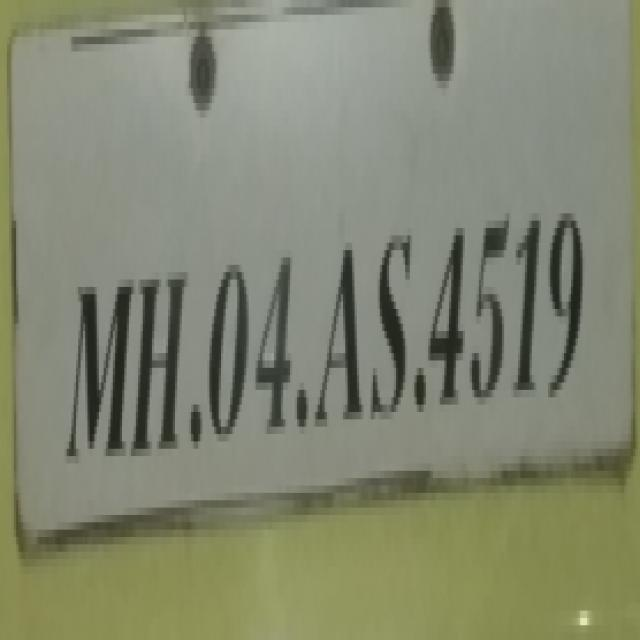0: (204, 246, 252, 458)
1: (514, 215, 542, 411)
4: (422, 197, 468, 426), (256, 254, 296, 450)
5: (473, 204, 512, 426)
9: (548, 196, 591, 418)
A: (314, 219, 366, 447)
H: (136, 260, 185, 471)
M: (62, 254, 134, 486)
S: (372, 221, 412, 437)
